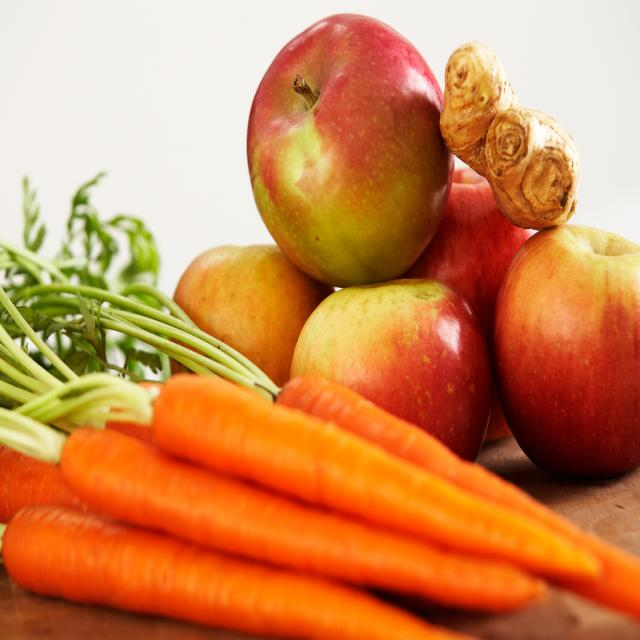Healty Apple: (242, 6, 465, 293), (489, 220, 639, 489), (291, 281, 495, 474), (413, 162, 538, 370)
